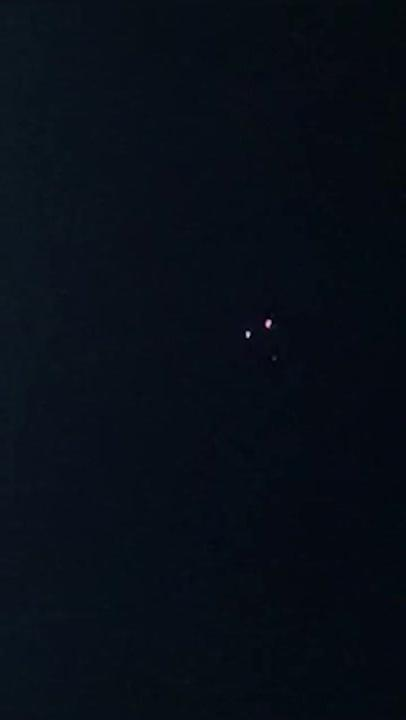Plane: (229, 307, 288, 347)
